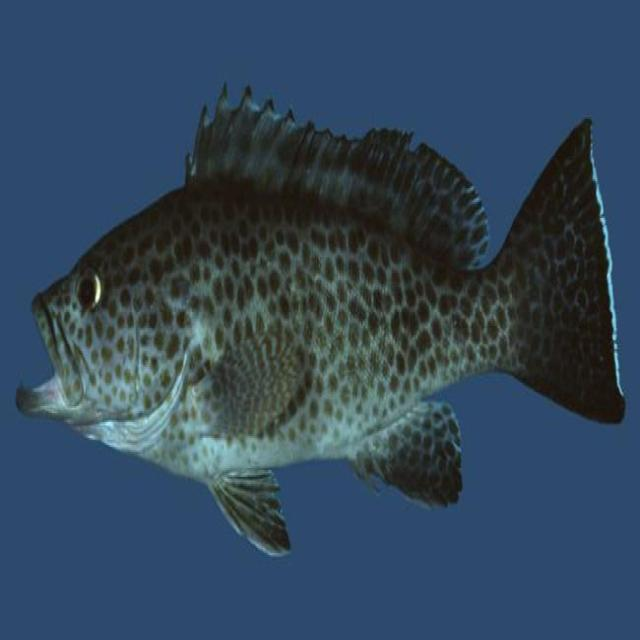ikan: (15, 78, 626, 558)
